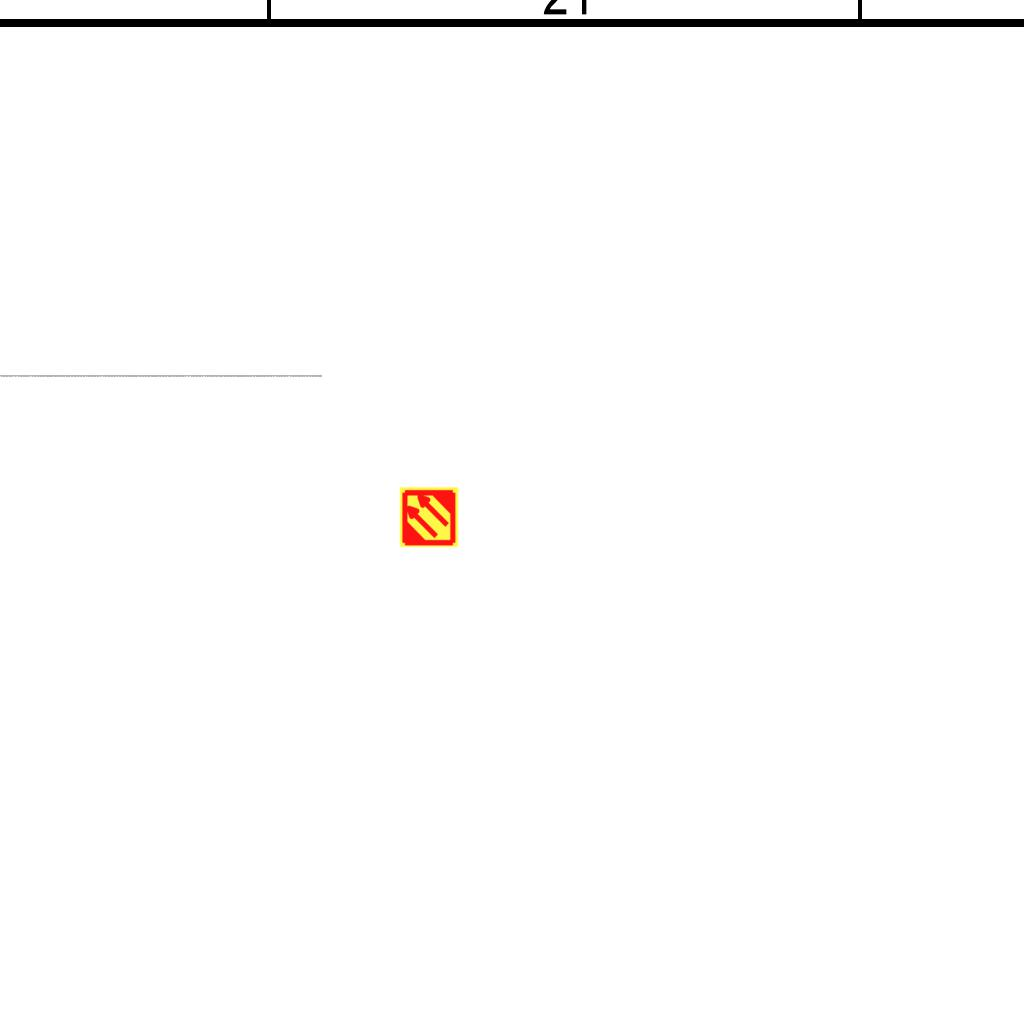ASR_Ansaugrauchmelder: (398, 486, 460, 548)
